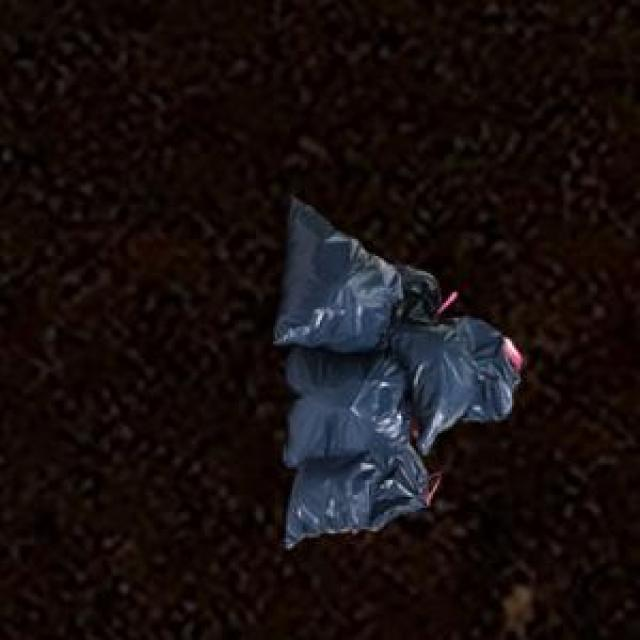miscellaneous trash: (271, 192, 516, 544)
